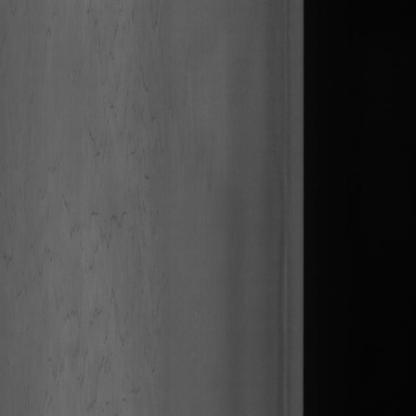silk_spot: (78, 54, 187, 313)
